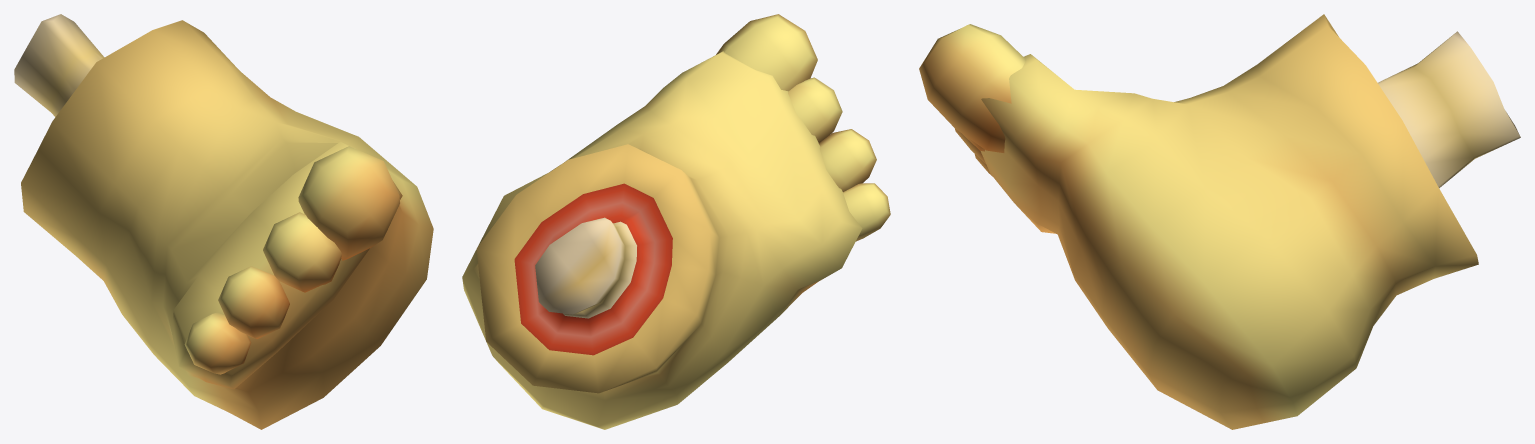
Rendered from ChoppedFoot_M.fbx.
3 views of the same model, side by side, from view 1: azimuth 30°, elevation 25°; view 2: azimuth 150°, elevation 25°; view 3: azimuth 270°, elevation 25° (orthographic). The views are drawn at different scales.
Parts seen in each view (by area): view 1: Chopped Off Foot; view 2: Chopped Off Foot; view 3: Chopped Off Foot.
Part boxes in pixels (x1,y1,x2,y2): Chopped Off Foot: [14, 14, 433, 429]; Chopped Off Foot: [462, 14, 890, 429]; Chopped Off Foot: [919, 14, 1520, 429].
Bounding box in the file's own units: 28.38 × 29.66 × 43.5.
